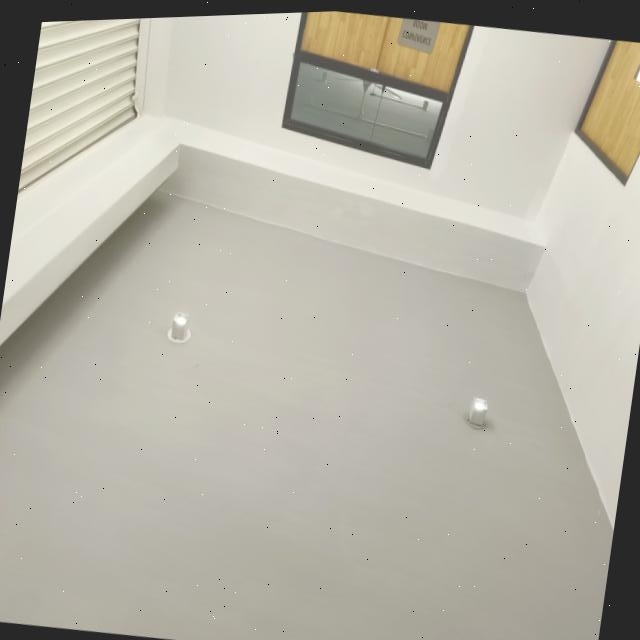fluorescent tube: (145, 270, 227, 365), (445, 360, 519, 460)
